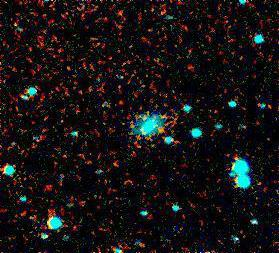star: (228, 144, 258, 174)
